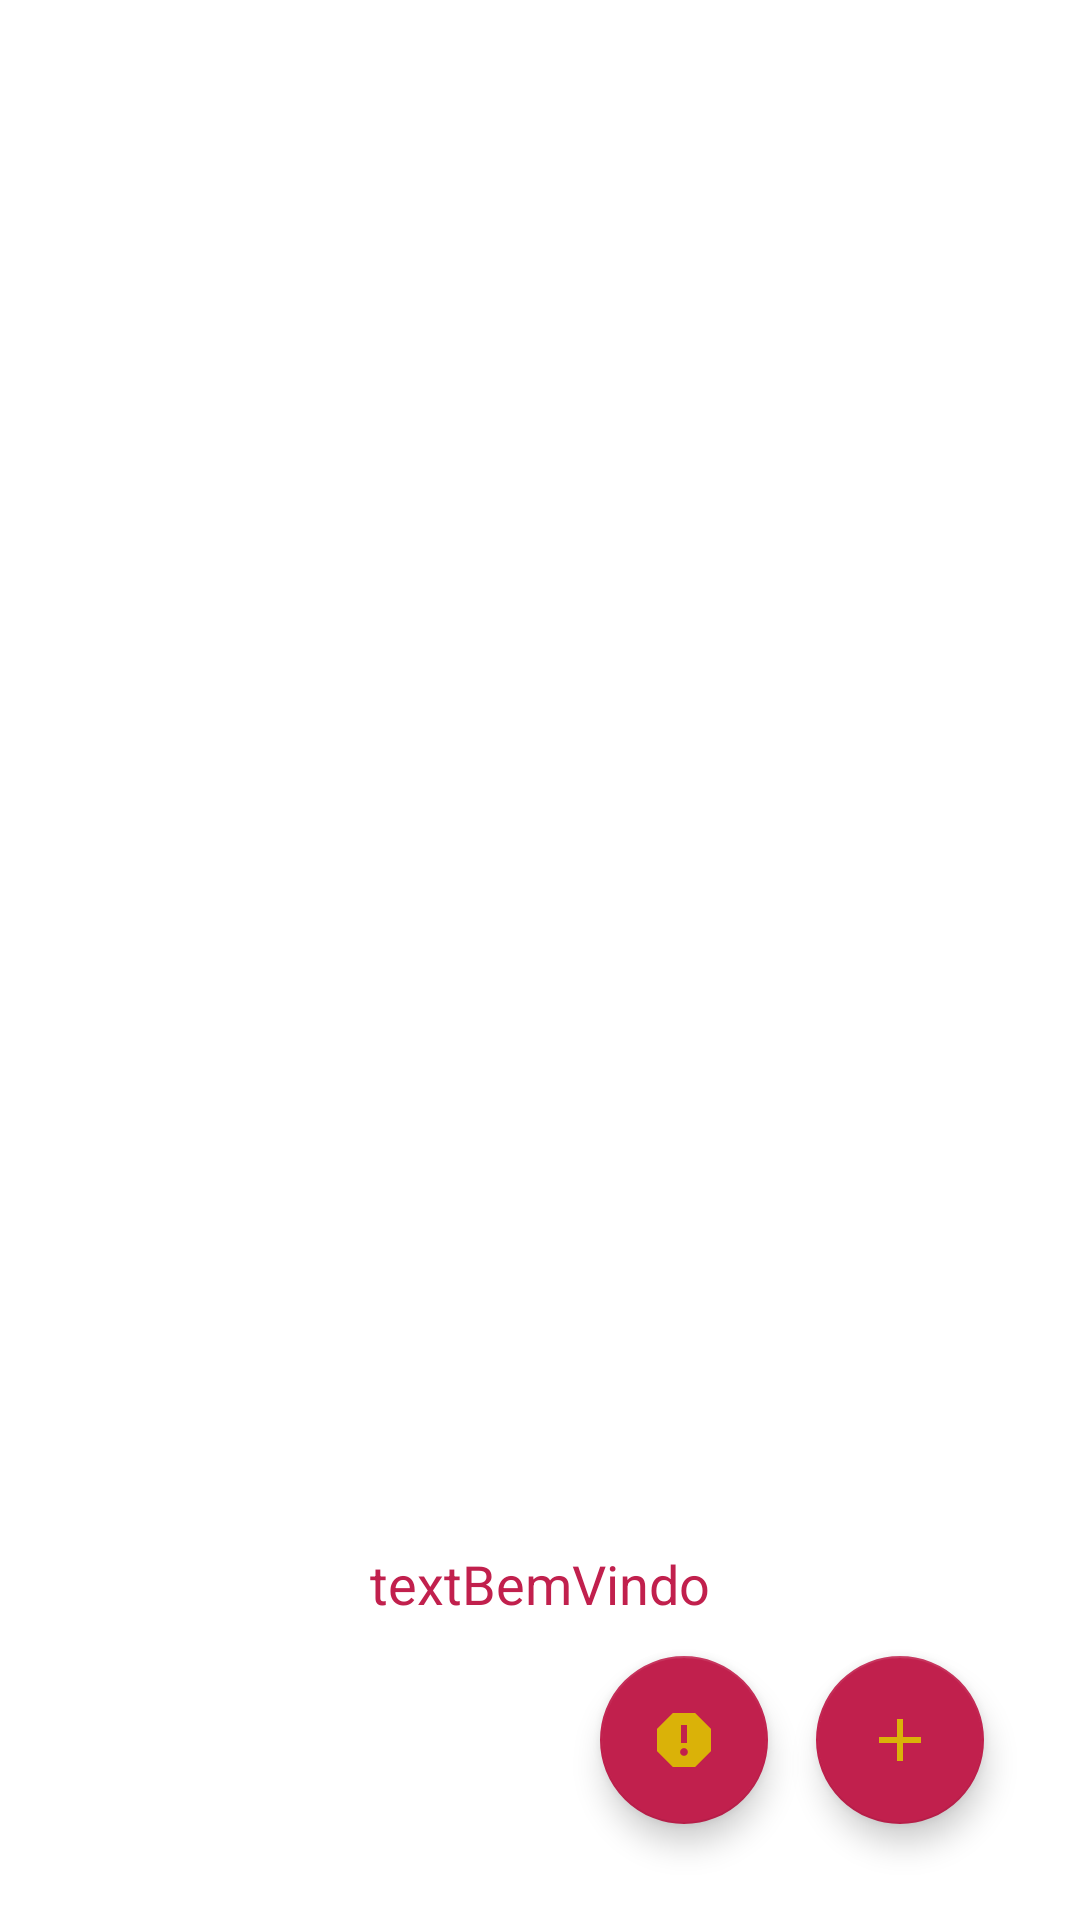

Screen size 1080w x 1920h. Icon name, then its box in pixels as detection(x1, y1, x2, y2):
add: detection(816, 1656, 984, 1824)
report: detection(600, 1656, 768, 1824)
